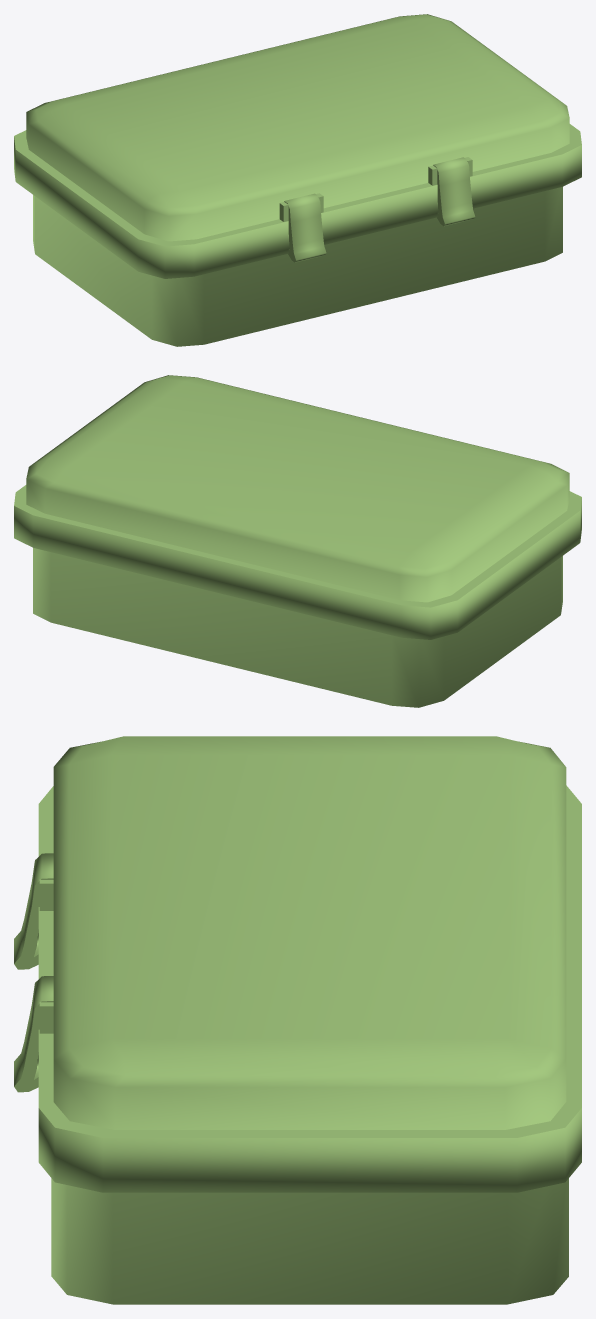
The model's file is kit.fbx.
3 views of the same model, one above another, from view 1: azimuth 30°, elevation 25°; view 2: azimuth 150°, elevation 25°; view 3: azimuth 270°, elevation 25° (orthographic). The views are drawn at different scales.
Visible parts, largest first — view 1: Plane.001; view 2: Plane.001; view 3: Plane.001.
Boxes of the visible parts, x1=… form: Plane.001: x1=14, y1=14, x2=581, y2=346; Plane.001: x1=14, y1=375, x2=581, y2=707; Plane.001: x1=14, y1=736, x2=581, y2=1304.
Size of the model in its own units: 0.4692 by 0.1435 by 0.3091.
